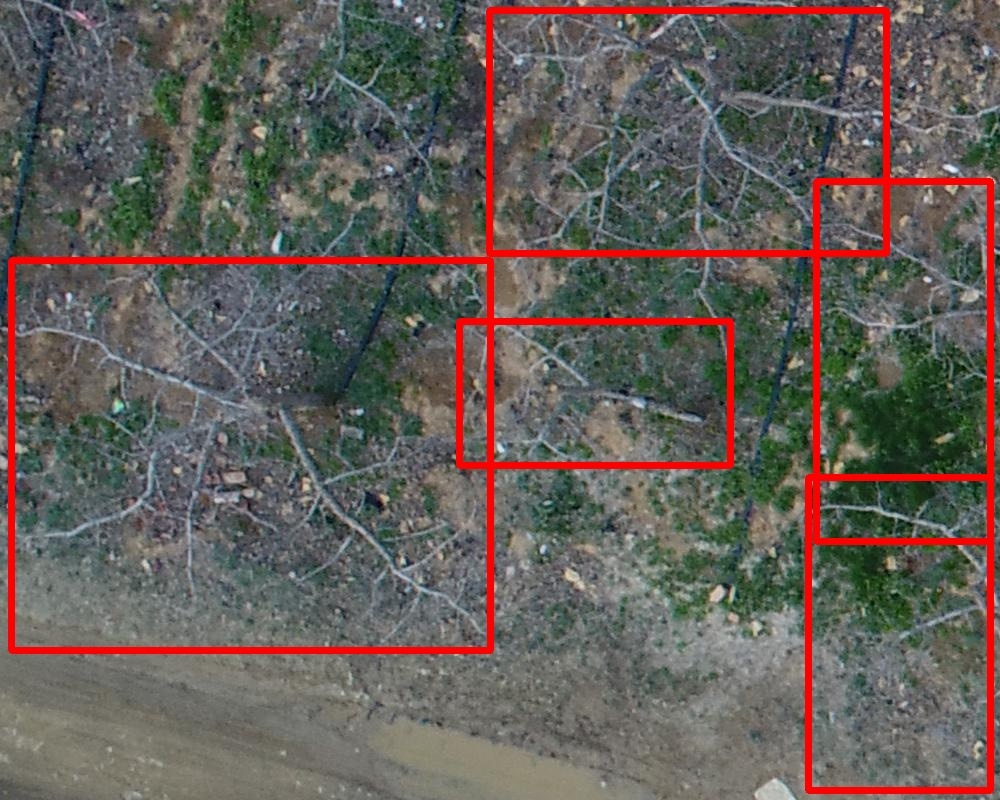apple: (11, 260, 490, 650), (489, 10, 886, 253), (816, 181, 990, 541), (808, 477, 990, 790), (459, 321, 730, 465)
